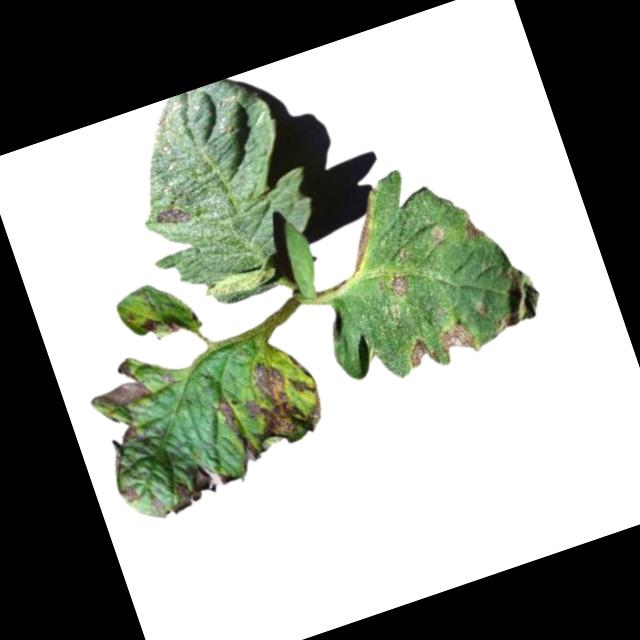Early_blight: (230, 342, 331, 452), (162, 449, 243, 513), (336, 194, 395, 271), (83, 356, 155, 416), (93, 421, 151, 487), (213, 390, 261, 468), (434, 314, 479, 362), (138, 305, 188, 345), (402, 333, 442, 374), (151, 199, 189, 231), (459, 213, 487, 243), (385, 268, 412, 298), (117, 481, 144, 507)
